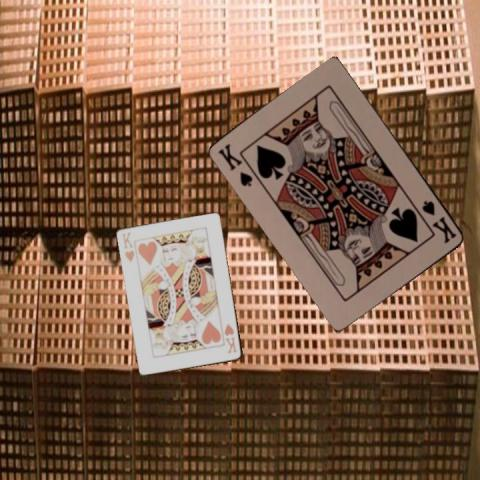Kh: (221, 321, 239, 355), (119, 230, 136, 264)
Ks: (419, 198, 459, 246), (215, 141, 255, 188)
